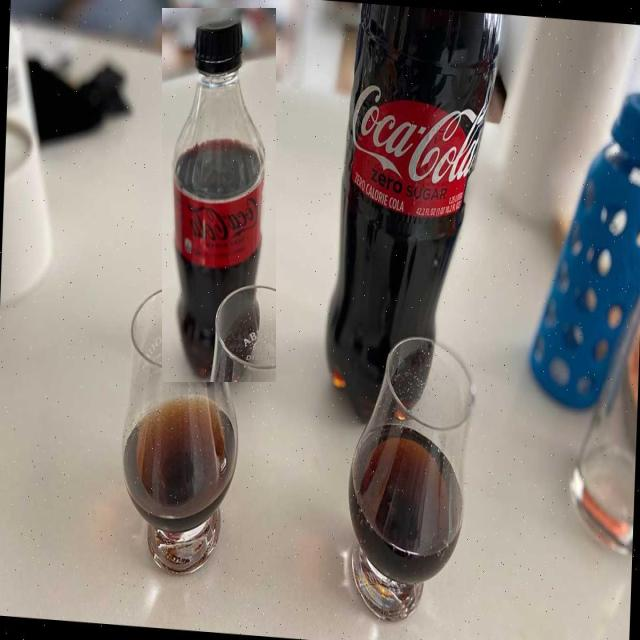coca-cola: (317, 4, 506, 439), (162, 8, 276, 382)
